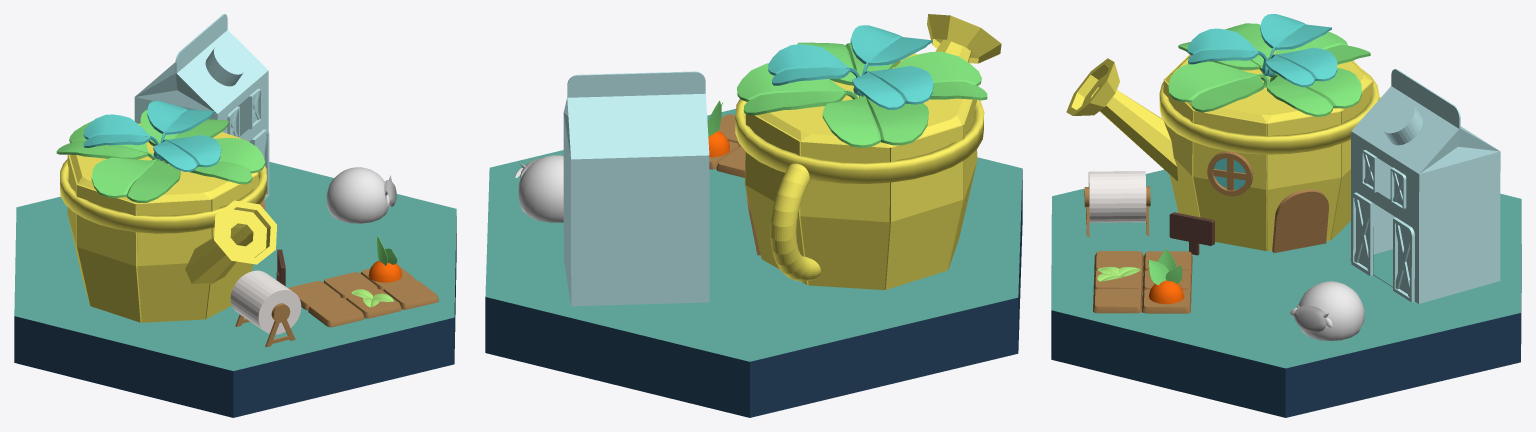
The model's file is Macro - farm barn lv3 WM2.fbx.
3 views of the same model, side by side, from view 1: azimuth 30°, elevation 25°; view 2: azimuth 150°, elevation 25°; view 3: azimuth 270°, elevation 25° (orthographic). The views are drawn at different scales.
Visible parts, largest first — view 1: Cylinder.154, Cube.020, Milk_Carton_packet.002, Cube.012, Cube.047, Plane.009, Cube.046, Sphere.011, Cylinder, Plane.014, Plane.015, Plane.016 (+6 smaller); view 2: Cylinder.154, Milk_Carton_packet.002, Cube.020, Cube.047, Plane.005, Cube.005, Plane.020, Plane.016, Sphere.011, Plane.009, Plane.010, Plane.015 (+4 smaller); view 3: Cylinder.154, Milk_Carton_packet.002, Cube.020, Cube.012, Cube.047, Plane.014, Cylinder, Cube.033, Cube.045, Plane.020, Sphere.011, Plane.010 (+10 smaller).
Boxes of the visible parts, x1,y1,x2,y2 form: Cylinder.154: [14, 162, 456, 417]; Cube.020: [67, 123, 258, 322]; Milk_Carton_packet.002: [134, 14, 269, 200]; Cube.012: [288, 265, 438, 327]; Cube.047: [60, 159, 266, 233]; Plane.009: [91, 157, 180, 202]; Cube.046: [214, 200, 276, 264]; Sphere.011: [326, 167, 388, 223]; Cylinder: [230, 270, 301, 334]; Plane.014: [164, 138, 265, 184]; Plane.015: [153, 135, 221, 171]; Plane.016: [83, 114, 158, 159]; Cylinder.154: [485, 108, 1022, 417]; Milk_Carton_packet.002: [563, 71, 709, 306]; Cube.020: [745, 53, 977, 289]; Cube.047: [735, 99, 984, 183]; Plane.005: [822, 95, 928, 147]; Cube.005: [770, 163, 820, 281]; Plane.020: [737, 63, 857, 115]; Plane.016: [852, 66, 933, 109]; Sphere.011: [518, 155, 563, 222]; Plane.009: [894, 51, 987, 100]; Plane.010: [768, 44, 860, 95]; Plane.015: [850, 25, 932, 75]; Cylinder.154: [1051, 169, 1521, 417]; Milk_Carton_packet.002: [1350, 69, 1500, 303]; Cube.020: [1163, 54, 1373, 250]; Cube.012: [1093, 251, 1192, 313]; Cube.047: [1159, 69, 1379, 154]; Plane.014: [1168, 61, 1269, 112]; Cylinder: [1088, 171, 1146, 222]; Cube.033: [1272, 189, 1328, 252]; Cube.045: [1099, 90, 1177, 181]; Plane.020: [1267, 68, 1361, 117]; Sphere.011: [1298, 281, 1364, 340]; Plane.010: [1265, 47, 1337, 87].
Bounding box in the file's own units: 197 × 94.02 × 172.
